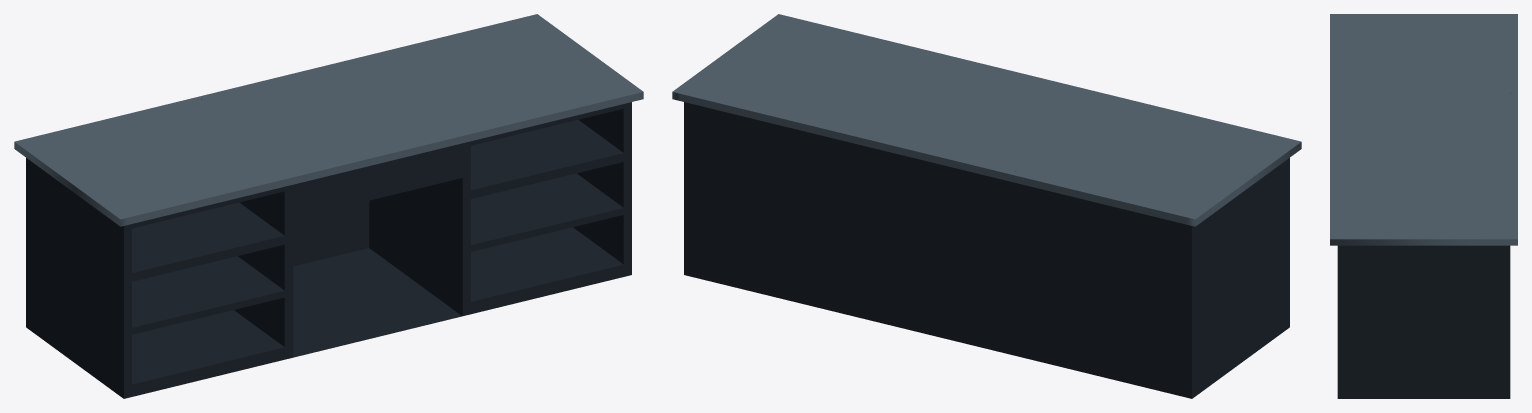
Rendered from large_drawer_base.fbx.
The picture shows the model from 3 angles, left to right: view 1: azimuth 30°, elevation 25°; view 2: azimuth 150°, elevation 25°; view 3: azimuth 270°, elevation 25°; orthographic projection. The views are drawn at different scales.
Parts seen in each view (by area): view 1: large_drawer; view 2: large_drawer; view 3: large_drawer.
Part boxes in pixels (x1=…): large_drawer: x1=14, y1=14, x2=643, y2=398; large_drawer: x1=672, y1=14, x2=1301, y2=398; large_drawer: x1=1330, y1=14, x2=1517, y2=398.
Bounding box in the file's own units: 309 × 104 × 109.
